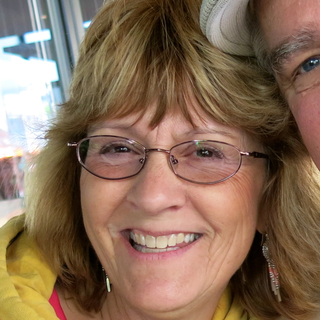eye: (183, 141, 227, 165), (99, 140, 142, 163)
